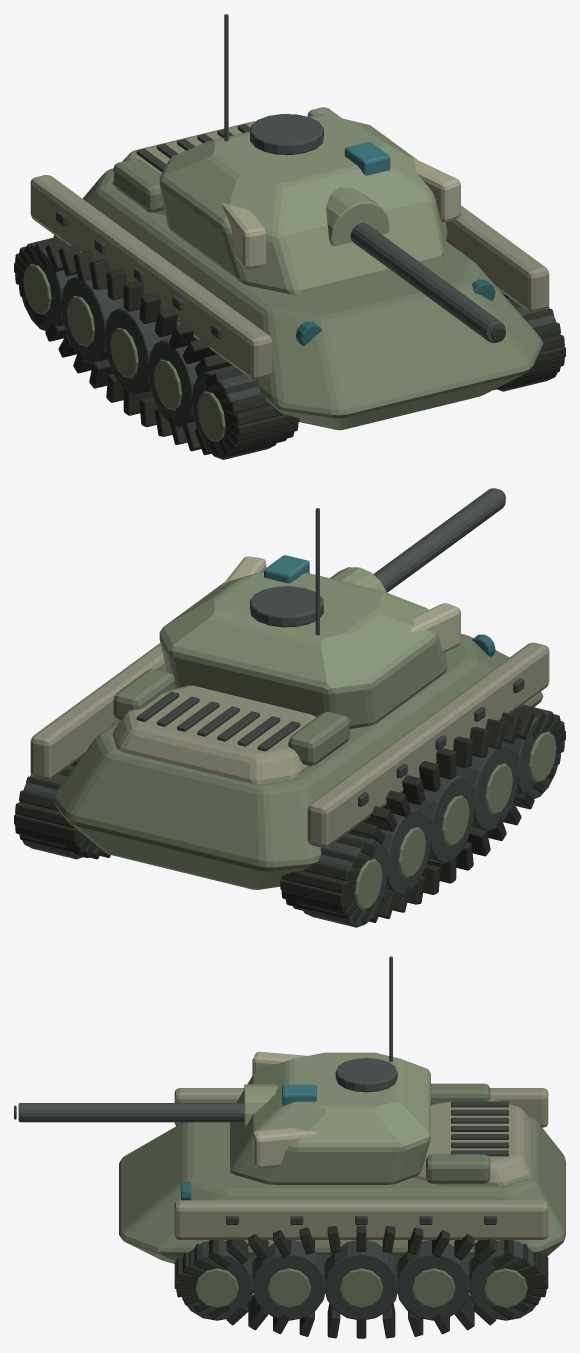
The model's file is tank.glb.
The picture shows the model from 3 angles, top to bottom: view 1: azimuth 30°, elevation 25°; view 2: azimuth 150°, elevation 25°; view 3: azimuth 270°, elevation 25°; orthographic projection. The views are drawn at different scales.
Visible parts, largest first — view 1: Chassis, TurretArmor, GunAssembly; view 2: Chassis, TurretArmor, GunAssembly; view 3: Chassis, TurretArmor, GunAssembly.
Boxes of the visible parts, <box> form: Chassis: <box>14,107,565,459</box>; TurretArmor: <box>159,14,460,294</box>; GunAssembly: <box>326,187,505,342</box>; Chassis: <box>14,634,565,927</box>; TurretArmor: <box>159,508,460,728</box>; GunAssembly: <box>330,488,505,592</box>; Chassis: <box>119,1083,565,1338</box>; TurretArmor: <box>230,956,430,1184</box>; GunAssembly: <box>14,1084,278,1128</box>.
Size of the model in its own units: 2.49 by 2.54 by 4.28.
